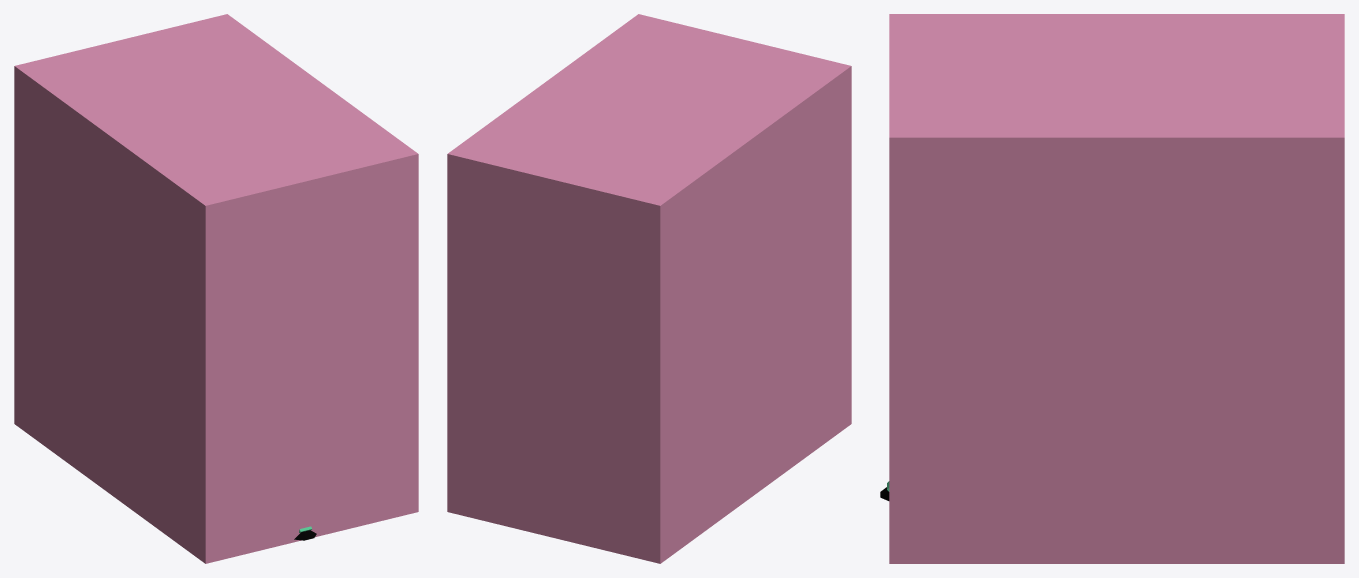
Rendered from tree_palm_overhang_b.dae.
The picture shows the model from 3 angles, left to right: view 1: azimuth 30°, elevation 25°; view 2: azimuth 150°, elevation 25°; view 3: azimuth 270°, elevation 25°; orthographic projection. The views are drawn at different scales.
Visible parts, largest first — view 1: Untitled; view 2: Untitled; view 3: Untitled.
Part boxes in pixels (x1,y1,x2,y2): Untitled: (14,14,418,563); Untitled: (447,14,851,563); Untitled: (889,14,1344,563).
Bounding box in the file's own units: 6.7 × 10.62 × 10.86.
